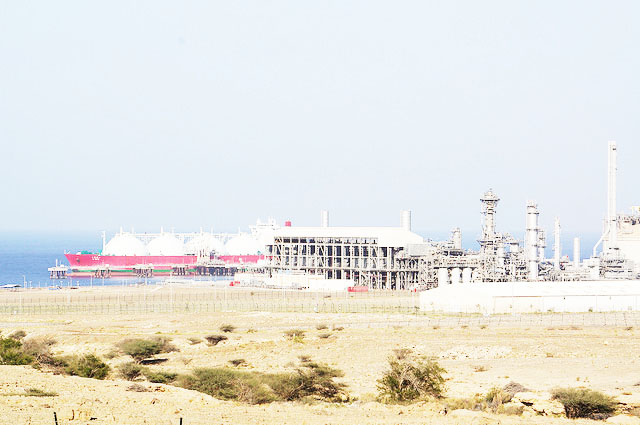LNG_ship: (64, 226, 275, 259)
